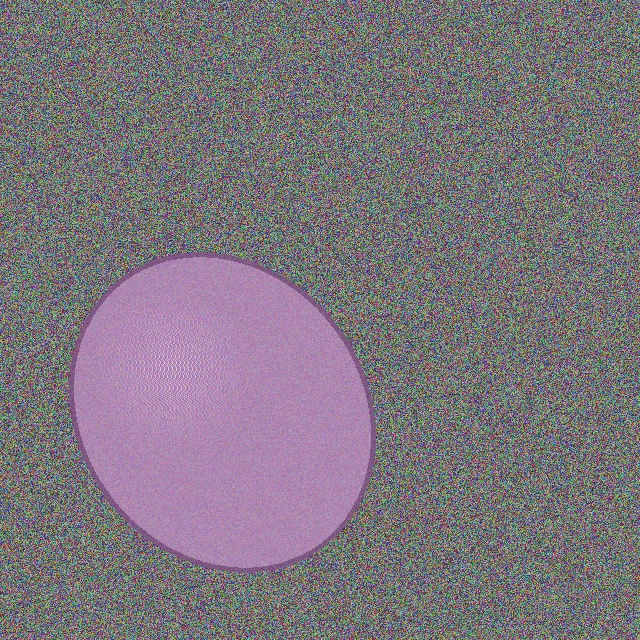lens: (71, 254, 373, 570)
